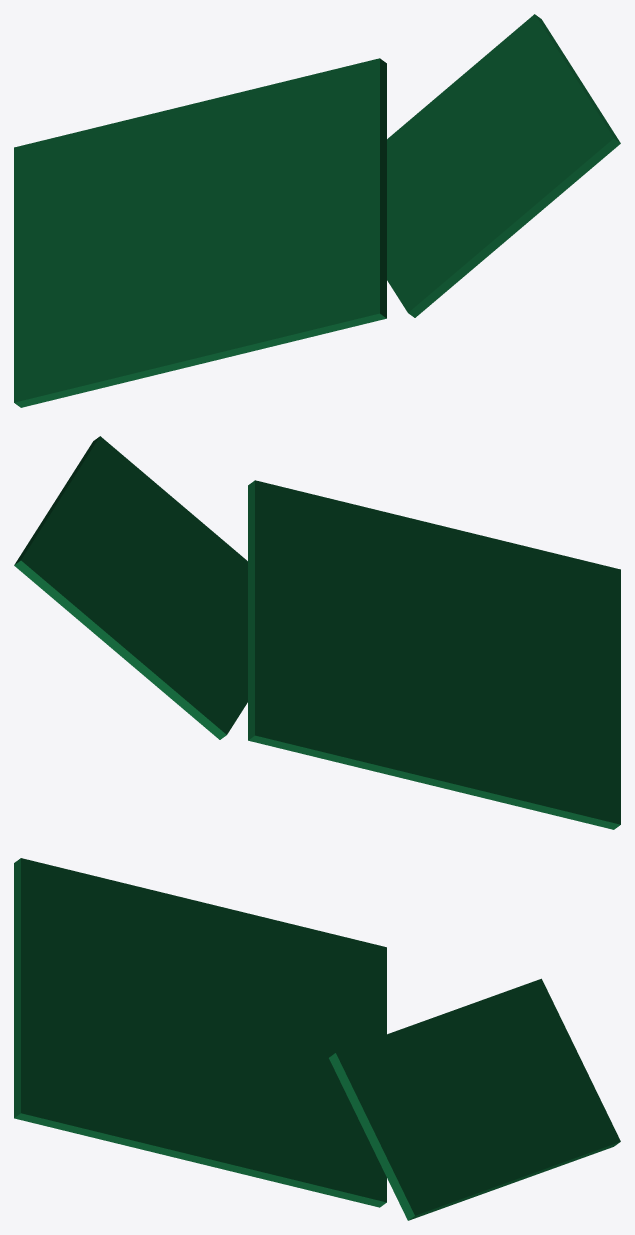
The model's file is PCB双态演示.glb.
3 views of the same model, one above another, from view 1: azimuth 30°, elevation 25°; view 2: azimuth 150°, elevation 25°; view 3: azimuth 330°, elevation 25° (orthographic).
Visible parts, largest first — view 1: Board (×2); view 2: Board (×2); view 3: Board (×2).
Boxes of the visible parts, x1,y1,x2,y2 form: Board (×2): (14, 14, 620, 407); Board (×2): (14, 436, 620, 829); Board (×2): (14, 858, 620, 1220).
Size of the model in its own units: 98.39 by 42.02 by 2.
